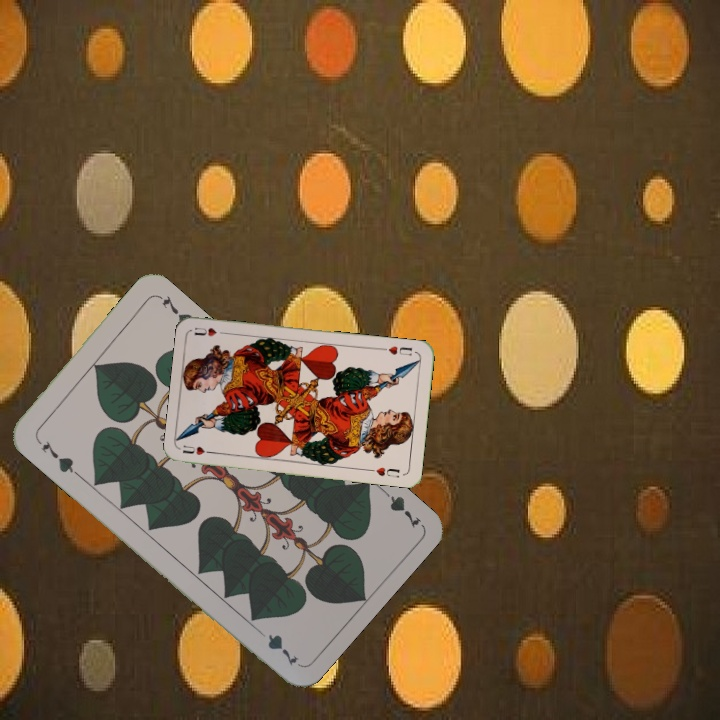G7: (374, 482, 424, 531), (37, 436, 80, 477)
HU: (179, 441, 218, 458), (384, 342, 414, 358)
